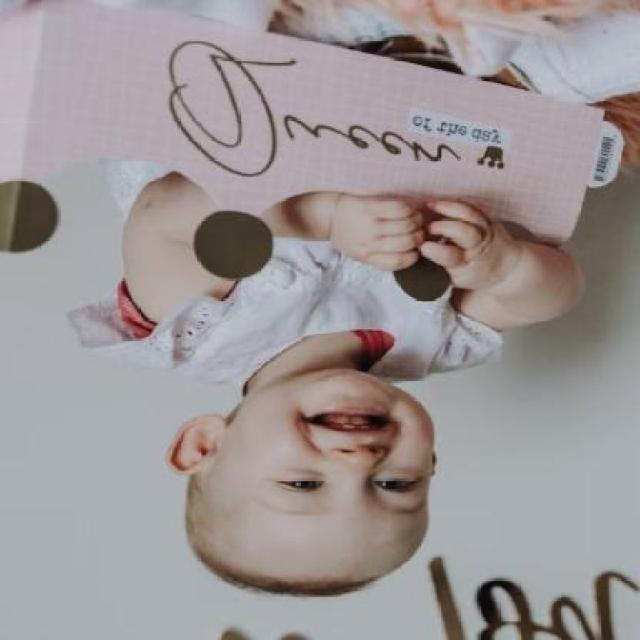baby: (112, 2, 583, 600)
